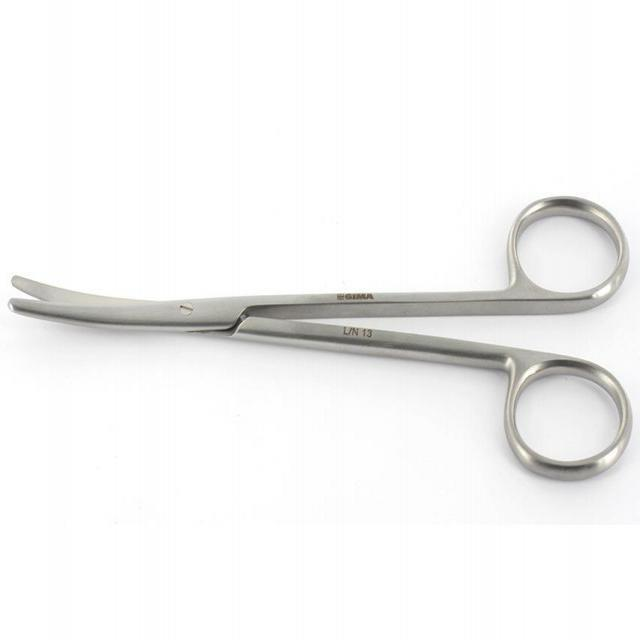Mayo_metz: (8, 188, 634, 492)
